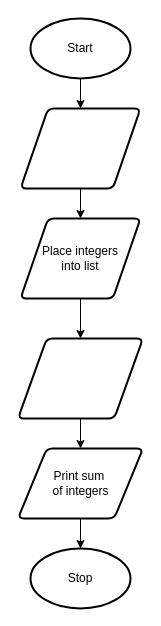
Image size: 161x626. Some labels were removed from this diagram. The centre of each missing label's shape, as x and y in pixels:
"Add up integers in list" belongs at pixel 80 378.
"Get integers" belongs at pixel 80 148.
